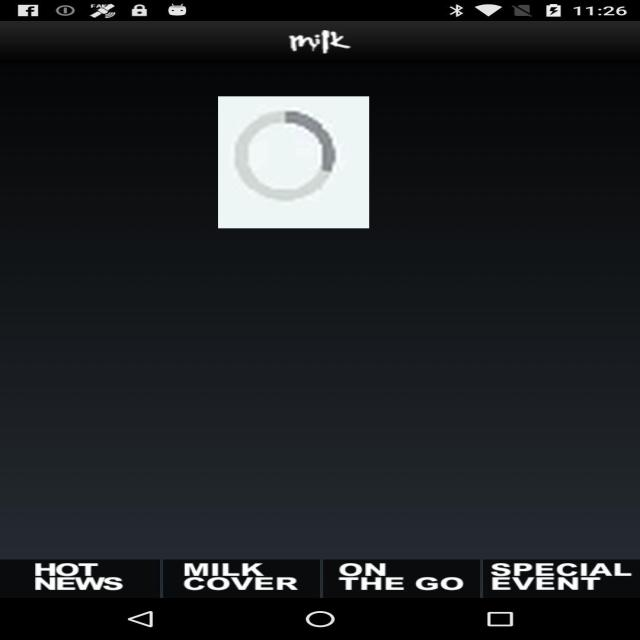misdirection: (218, 96, 369, 228)
